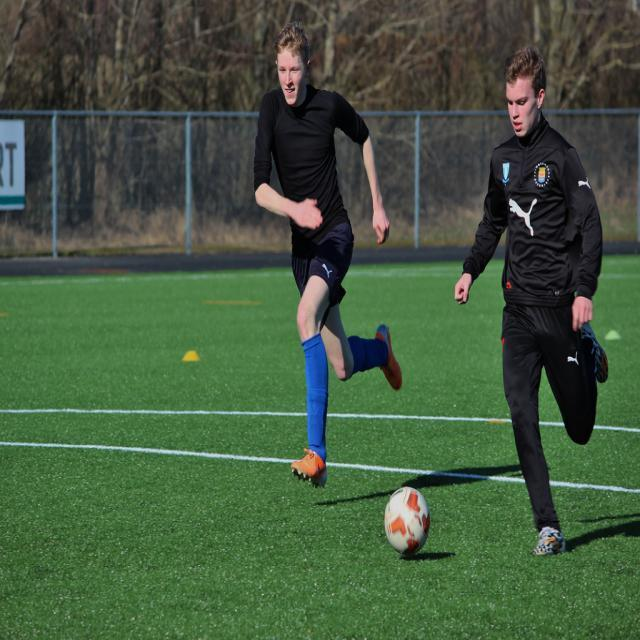football: (371, 465, 452, 572)
